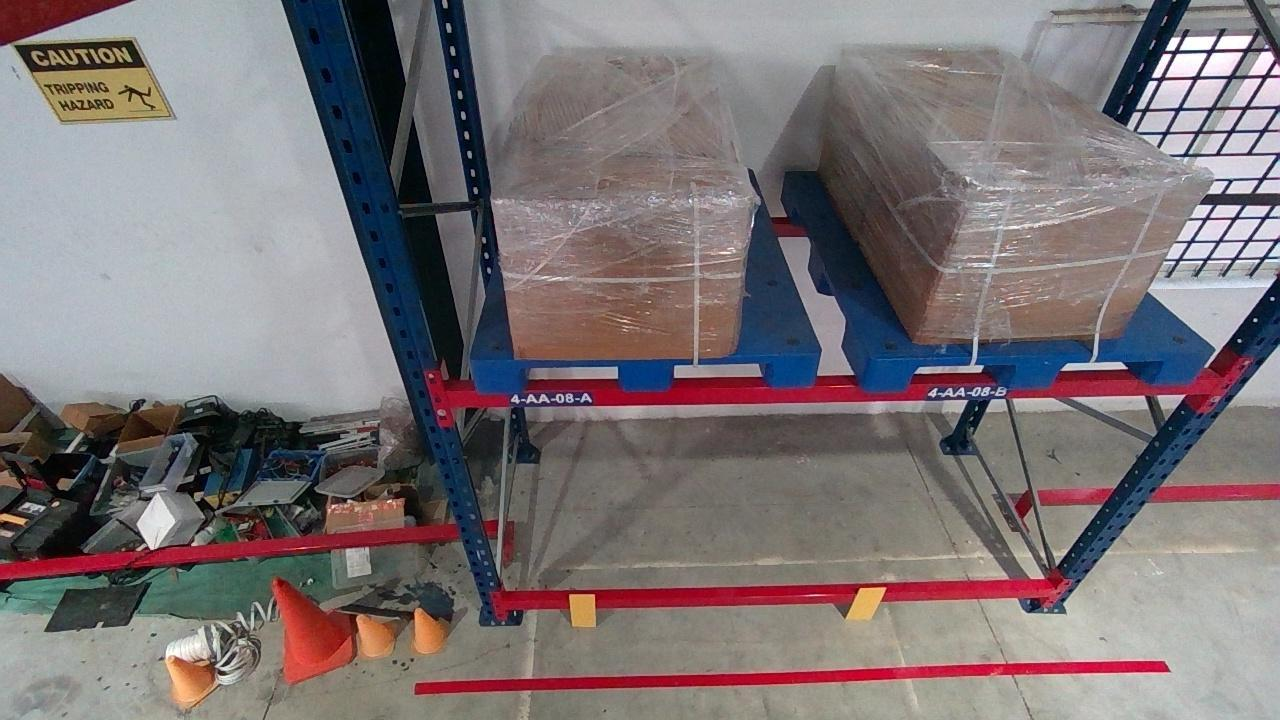h_rack: (447, 376, 1216, 406), (505, 583, 1057, 610)
orange_strip: (844, 586, 887, 619), (569, 594, 595, 627)
red_line: (415, 658, 1164, 694)
small_pallet: (860, 352, 1224, 387), (471, 356, 818, 390)
